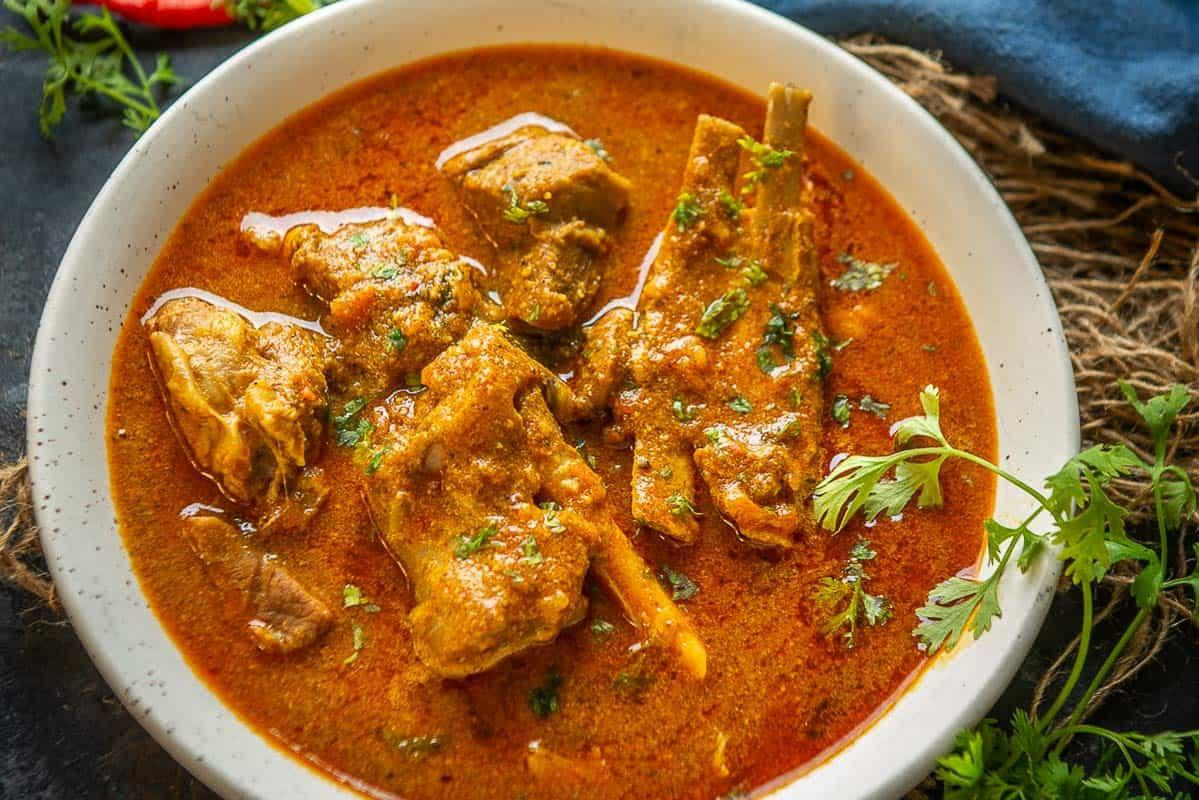MuttonCurry: (107, 46, 1001, 800)
